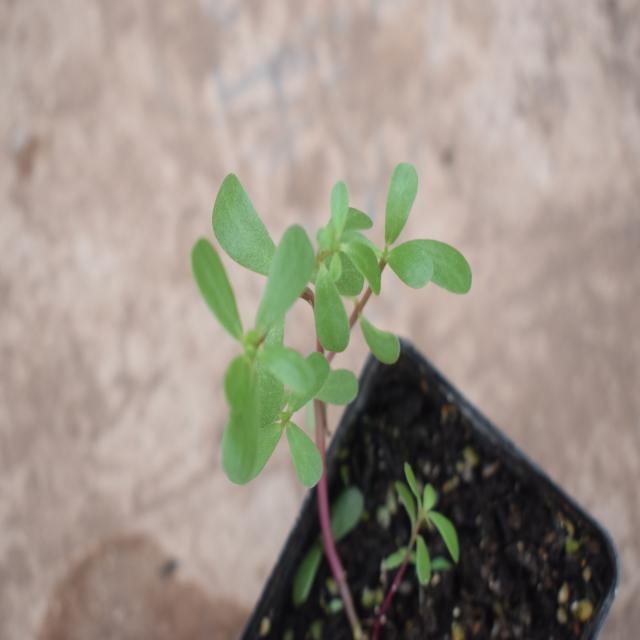purslane: (189, 160, 483, 578)
